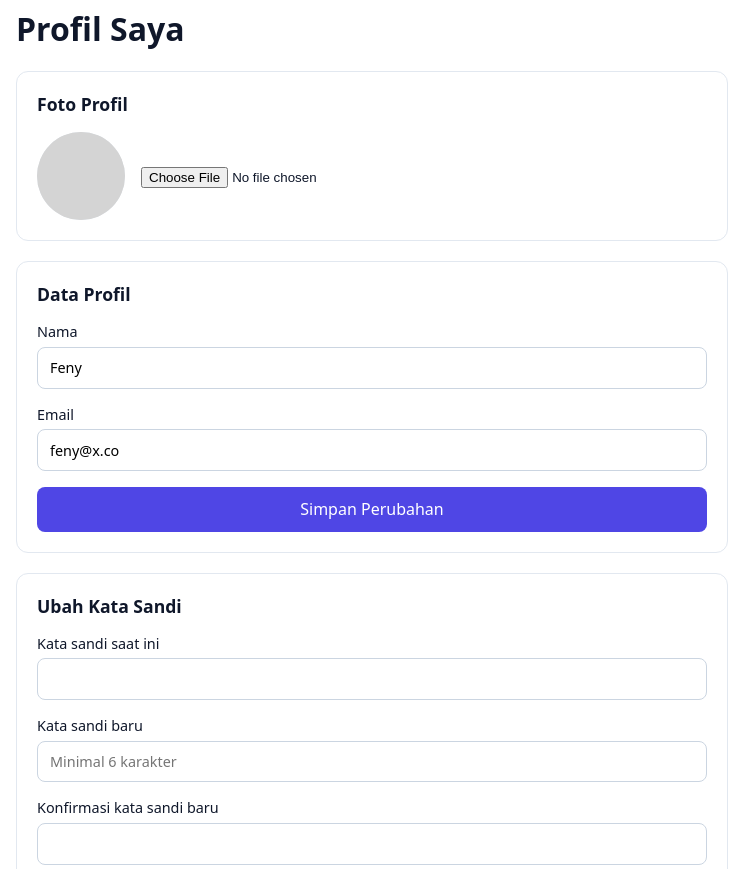
Test: ProfilePage: data profil › menolak nama kosong dan email tidak valid
Clear the field labelled "Nama" at (372, 368), box [37,347,707,389]
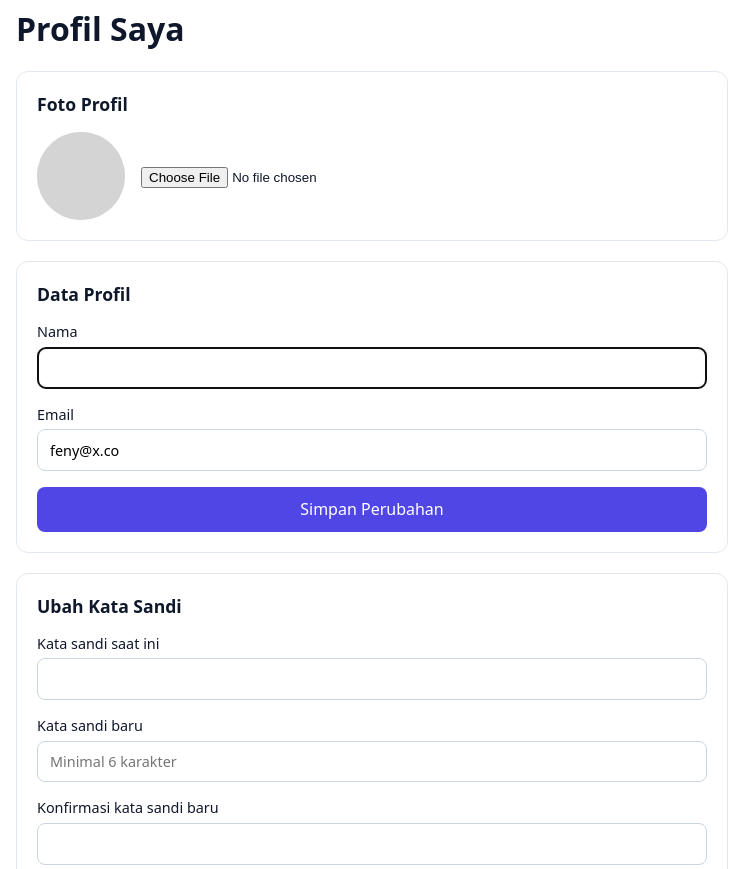
Click the button "Simpan Perubahan" at (372, 509), box [37,487,707,532]
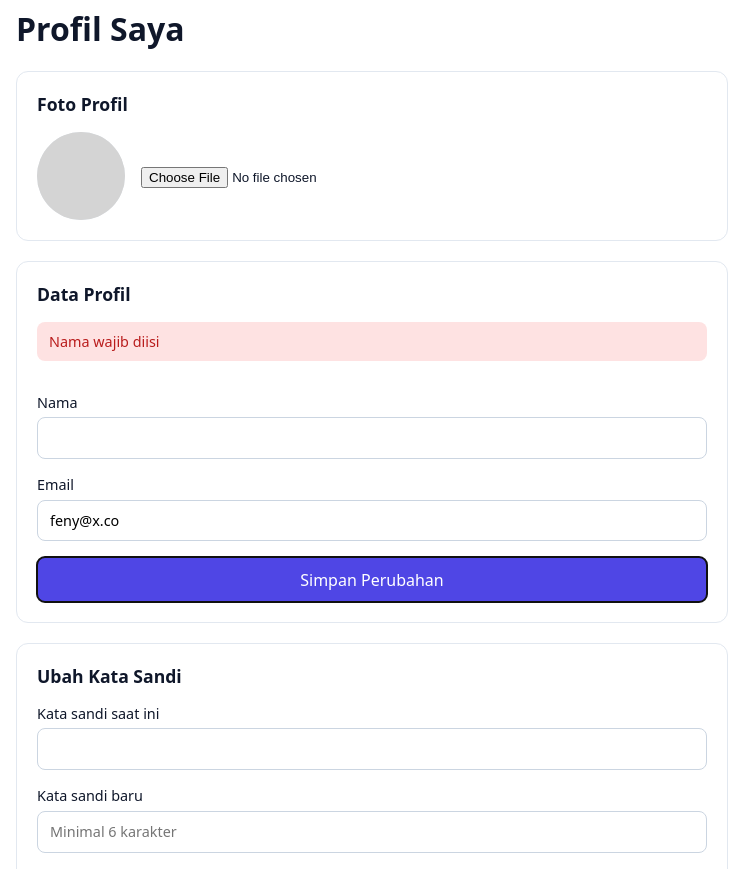
expect the text "Nama wajib diisi" is shown: met, box [37,322,707,361]
Type "Feny" into the field labelled "Nama" at (372, 438), box [37,417,707,459]
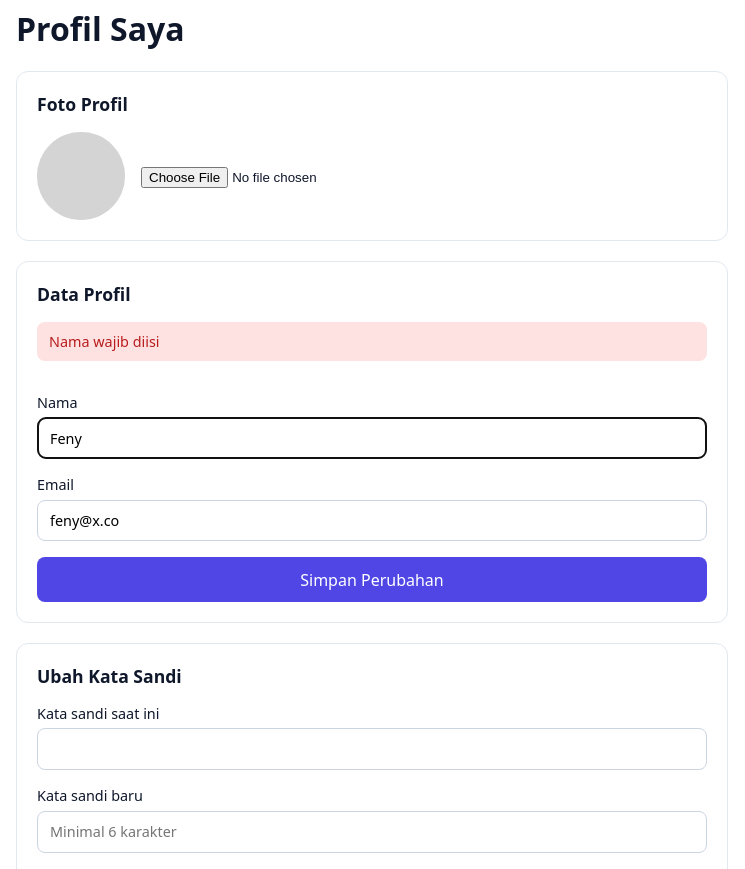
Replace the text in the field labelled "Email" with "a@b" at (372, 520), box [37,500,707,541]
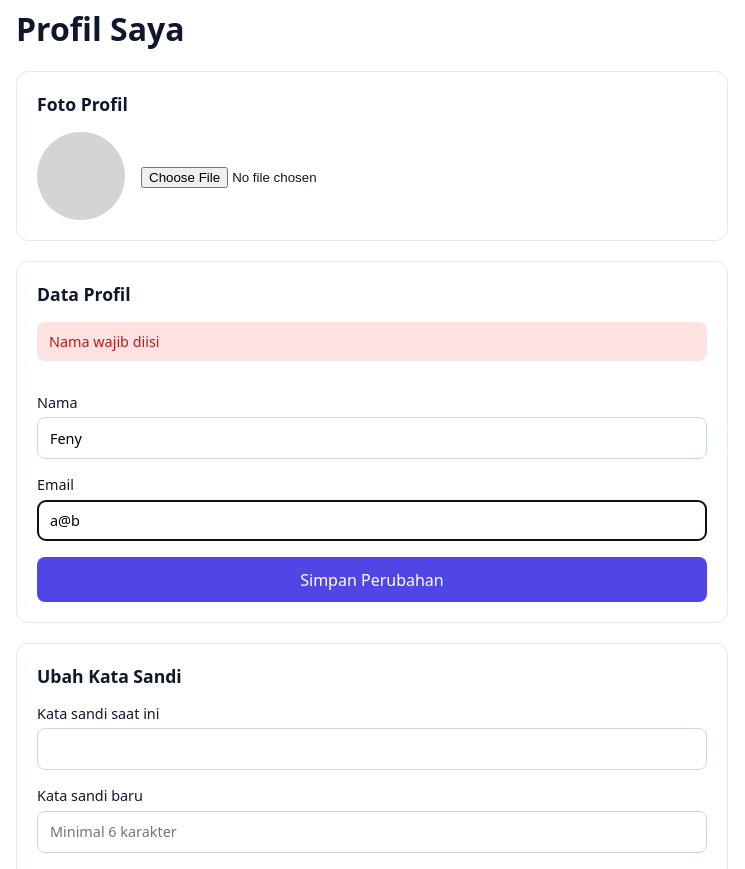
Click the button "Simpan Perubahan" at (372, 580), box [37,557,707,602]
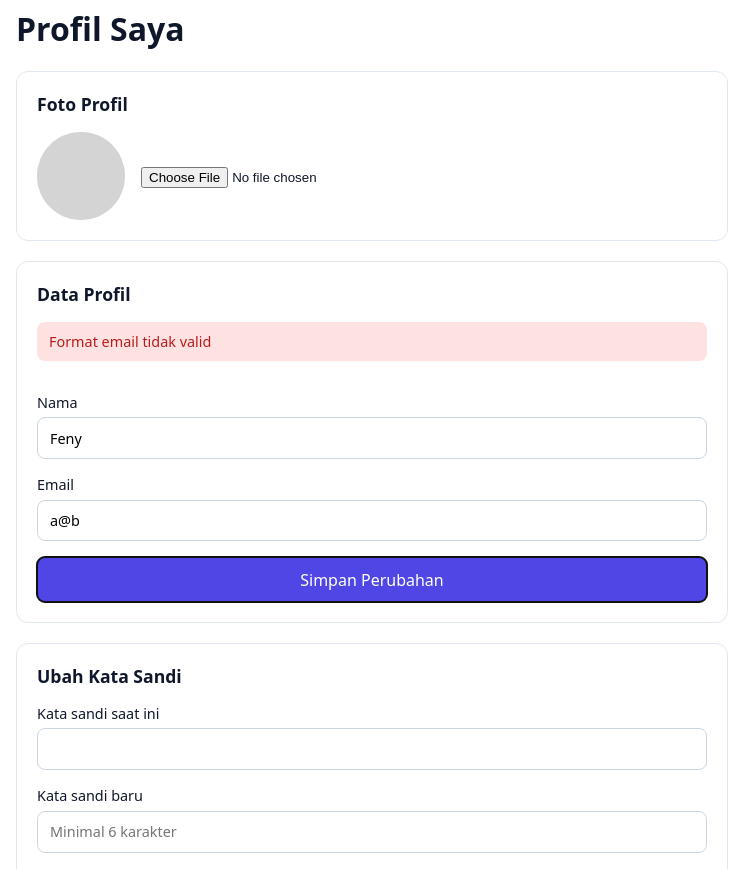
expect the text "Format email tidak valid" is shown: met, box [37,322,707,361]
